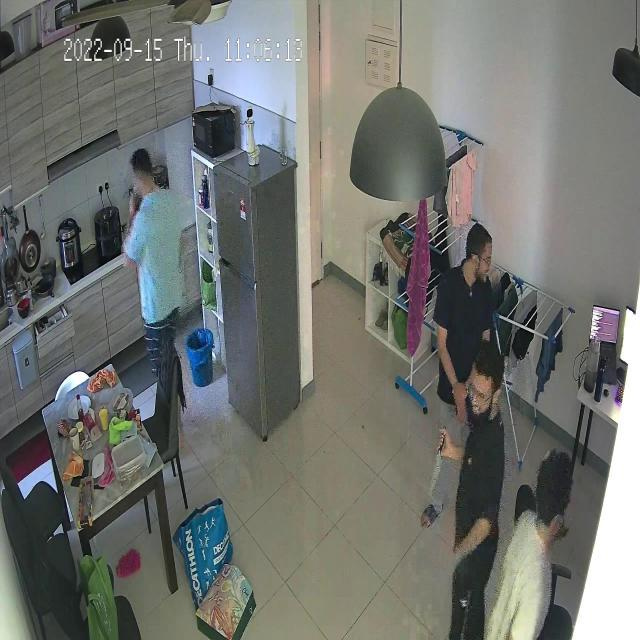Knife: (427, 424, 462, 503)
